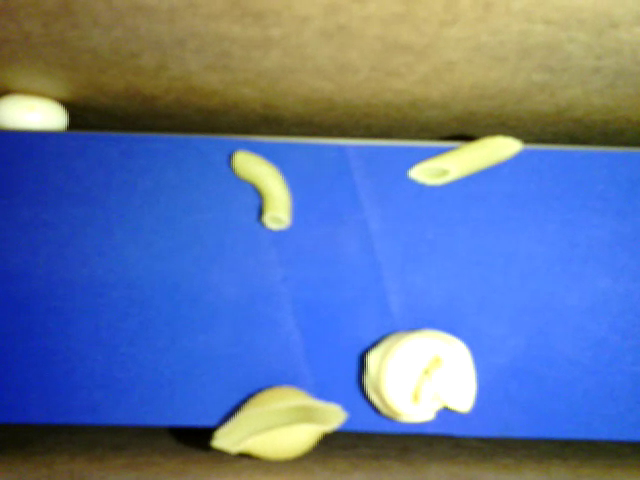penne: (406, 134, 525, 186), (230, 148, 292, 230)
shell: (210, 385, 351, 463)
tortellini: (359, 327, 479, 423)
